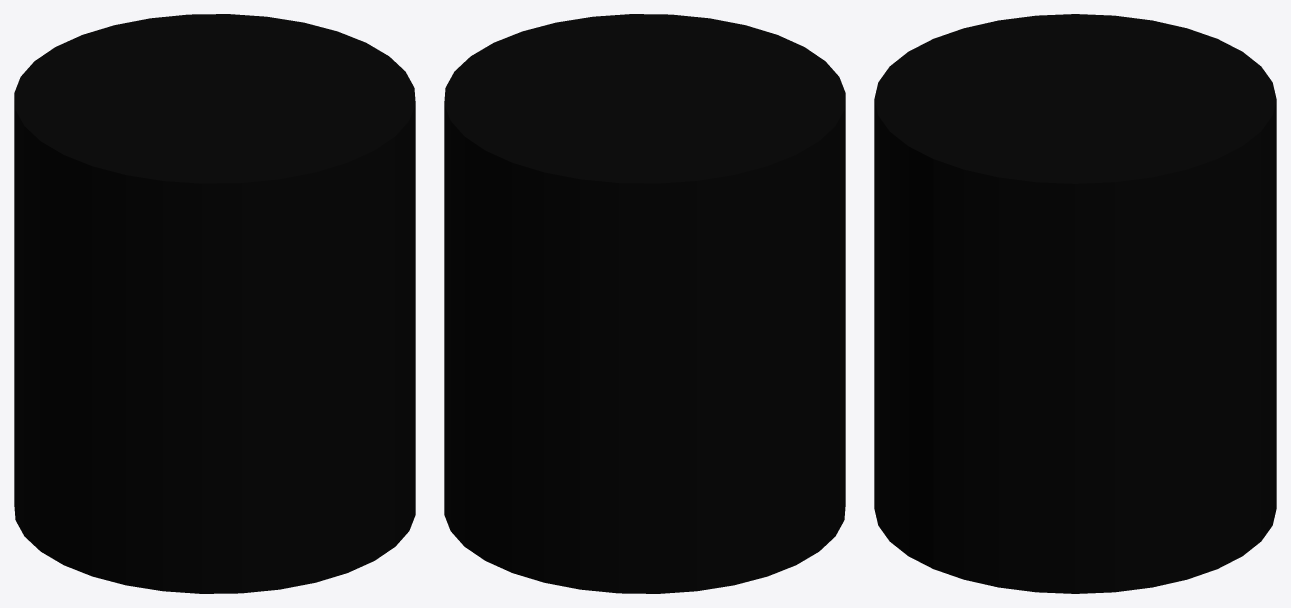
The model's file is cilindro.glb.
3 views of the same model, side by side, from view 1: azimuth 30°, elevation 25°; view 2: azimuth 150°, elevation 25°; view 3: azimuth 270°, elevation 25° (orthographic).
Visible parts, largest first — view 1: cilindro; view 2: cilindro; view 3: cilindro.
Part boxes in pixels (x1,y1,x2,y2): cilindro: [14, 14, 415, 593]; cilindro: [444, 14, 845, 593]; cilindro: [874, 14, 1276, 593].
Size of the model in its own units: 0.08 by 0.09 by 0.08.
Materials: 1 (1 with a texture image).
